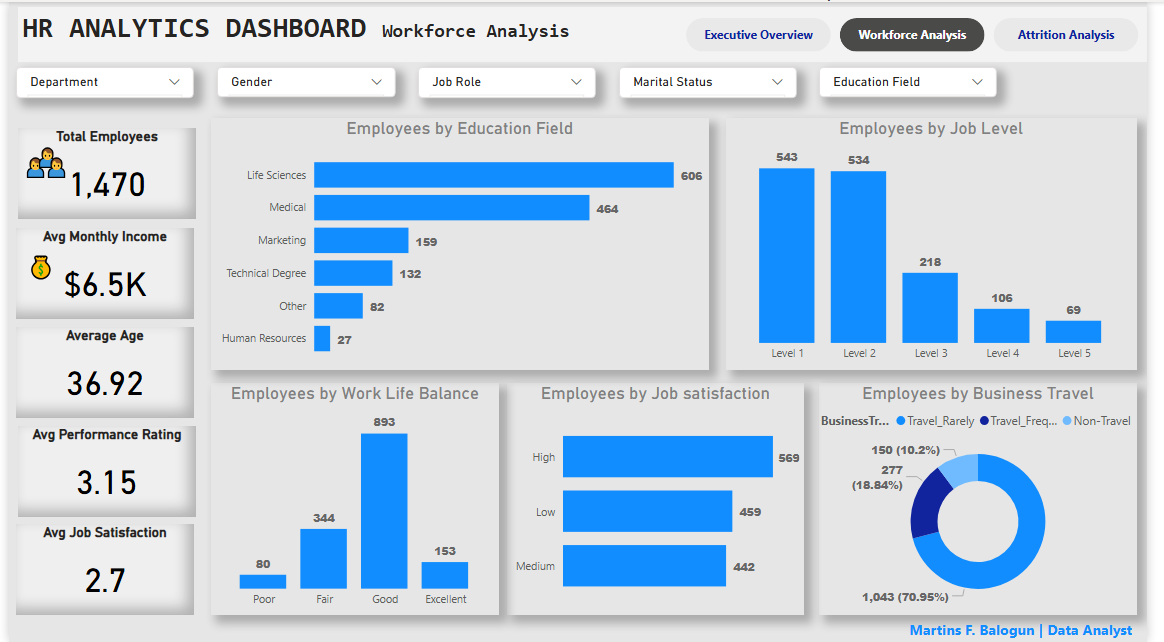

The dashboard page shown, as its layout file describes it:
{"tool":"powerbi","page":{"name":"Workforce Analysis","canvas":[1280,720],"ordinal":1},"visuals":[{"type":"textbox","box":[9.9,5.6,1270.1,61.9],"z":0},{"type":"textbox","box":[12.4,165.5,46.1,52.9],"z":0,"group":"g1"},{"type":"card","title":"Total Employees","fields":{"Values":["All Measures.Total Employees"]},"box":[10.1,141.8,200.2,102.4],"z":1000},{"type":"textbox","box":[25.9,154.3,46.1,47.2],"z":1000,"group":"g1"},{"type":"textbox","box":[36,165.5,46.1,47.2],"z":2000,"group":"g1"},{"type":"card","title":"Average Age","fields":{"Values":["All Measures.Average Age"]},"box":[7.6,365.9,200.2,102],"z":2000},{"type":"card","title":"Avg Job Satisfaction","fields":{"Values":["All Measures.Average Job Satisfaction"]},"box":[7.6,587.7,200.2,102],"z":3000},{"type":"card","title":"Avg Performance Rating","fields":{"Values":["Avg(HR Analytics Data.PerformanceRating)"]},"box":[10.2,476.8,200.2,102],"z":4000},{"type":"card","title":"Avg Monthly Income","fields":{"Values":["All Measures.Average Monthly Income"]},"box":[7.6,253.7,200.2,102],"z":5000},{"type":"columnChart","title":"Employees by Work Life Balance","fields":{"Y":["All Measures.Total Employees"],"Category":["HR Analytics Data.WorkLifeBalance Label"]},"box":[226.9,428.4,323.8,261.4],"z":6000},{"type":"columnChart","title":"Employees by Job Level","fields":{"Y":["All Measures.Total Employees"],"Category":["HR Analytics Data.Job Level"]},"box":[807,130,461.5,283],"z":7000},{"type":"donutChart","title":"Employees by Business Travel","fields":{"Category":["HR Analytics Data.BusinessTravel"],"Y":["All Measures.Total Employees"]},"box":[911.2,428.6,357.8,261],"z":8000},{"type":"clusteredBarChart","title":"Employees by Education Field","fields":{"Category":["HR Analytics Data.EducationField"],"Y":["All Measures.Total Employees"]},"box":[226.9,130,559.7,283],"z":9000},{"type":"slicer","title":"Department","fields":{"Values":["HR Analytics Data.Department"]},"box":[7.9,73.7,200.2,34.9],"z":10000},{"type":"slicer","title":"Department","fields":{"Values":["HR Analytics Data.Gender"]},"box":[233.5,73.7,201.4,34.4],"z":11000},{"type":"slicer","title":"Department","fields":{"Values":["HR Analytics Data.JobRole"]},"box":[460.4,73.7,200.2,35],"z":12000},{"type":"slicer","title":"Department","fields":{"Values":["HR Analytics Data.MaritalStatus"]},"box":[686,73.7,200.2,35],"z":13000},{"type":"slicer","title":"Department","fields":{"Values":["HR Analytics Data.EducationField"]},"box":[911.6,73.7,200.2,34.4],"z":14000},{"type":"textbox","box":[870.8,689.4,397.8,30.6],"z":15000},{"type":"pageNavigator","box":[761.1,17.8,510,38.2],"z":16000},{"type":"textbox","box":[16.6,275.4,51,48.4],"z":17000},{"type":"group","id":"g1","title":"Group 1","box":[12.4,154.3,69.8,64.1],"z":18000},{"type":"clusteredBarChart","title":"Employees by Job satisfaction","fields":{"Y":["All Measures.Total Employees"],"Category":["HR Analytics Data.Job satisfaction"]},"box":[560.2,428.6,334.1,261],"z":19000}]}

Visuals, with their boxes in screenshot pixels (x1, y1, x2, y2), scaled from the page's 1280x720 canvas onto the 1164x642 screenshot:
textbox: bbox(9, 5, 1163, 60)
textbox: bbox(11, 148, 53, 195)
"Total Employees" card: bbox(9, 126, 191, 218)
textbox: bbox(24, 138, 65, 180)
textbox: bbox(33, 148, 75, 190)
"Average Age" card: bbox(7, 326, 189, 417)
"Avg Job Satisfaction" card: bbox(7, 524, 189, 615)
"Avg Performance Rating" card: bbox(9, 425, 191, 516)
"Avg Monthly Income" card: bbox(7, 226, 189, 317)
"Employees by Work Life Balance" columnChart: bbox(206, 382, 501, 615)
"Employees by Job Level" columnChart: bbox(734, 116, 1154, 368)
"Employees by Business Travel" donutChart: bbox(829, 382, 1154, 615)
"Employees by Education Field" clusteredBarChart: bbox(206, 116, 715, 368)
"Department" slicer: bbox(7, 66, 189, 97)
"Department" slicer: bbox(212, 66, 395, 96)
"Department" slicer: bbox(419, 66, 601, 97)
"Department" slicer: bbox(624, 66, 806, 97)
"Department" slicer: bbox(829, 66, 1011, 96)
textbox: bbox(792, 615, 1154, 641)
pageNavigator: bbox(692, 16, 1156, 50)
textbox: bbox(15, 246, 61, 289)
"Group 1" group: bbox(11, 138, 75, 195)
"Employees by Job satisfaction" clusteredBarChart: bbox(509, 382, 813, 615)
